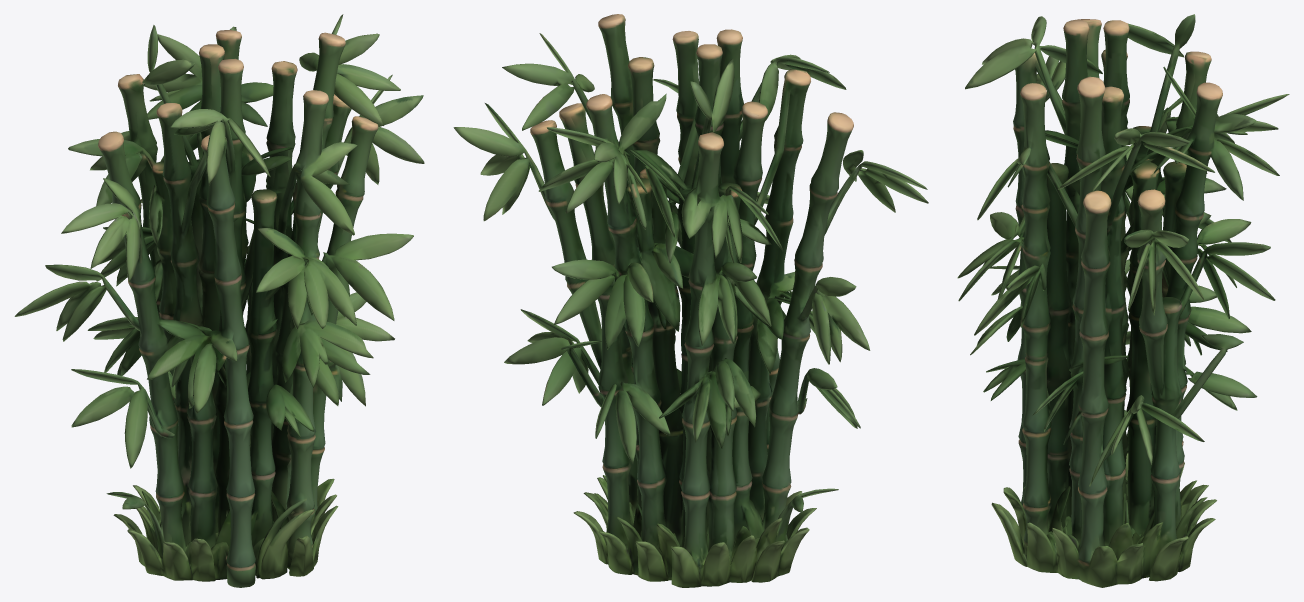
The model's file is bamboo_raw.glb.
3 views of the same model, side by side, from view 1: azimuth 30°, elevation 25°; view 2: azimuth 150°, elevation 25°; view 3: azimuth 270°, elevation 25° (orthographic). The views are drawn at different scales.
Parts seen in each view (by area): view 1: node_0; view 2: node_0; view 3: node_0.
Boxes of the visible parts, <box> form: node_0: <box>14,14,424,587</box>; node_0: <box>453,14,928,587</box>; node_0: <box>957,14,1289,587</box>.
Bounding box in the file's own units: 0.9144 × 1.09 × 0.6411.
Materials: 1 (1 with a texture image).
